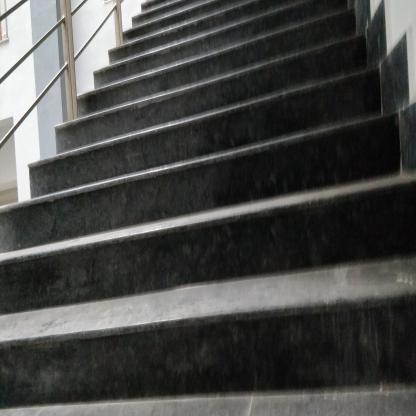stairs: (123, 34, 365, 416)
